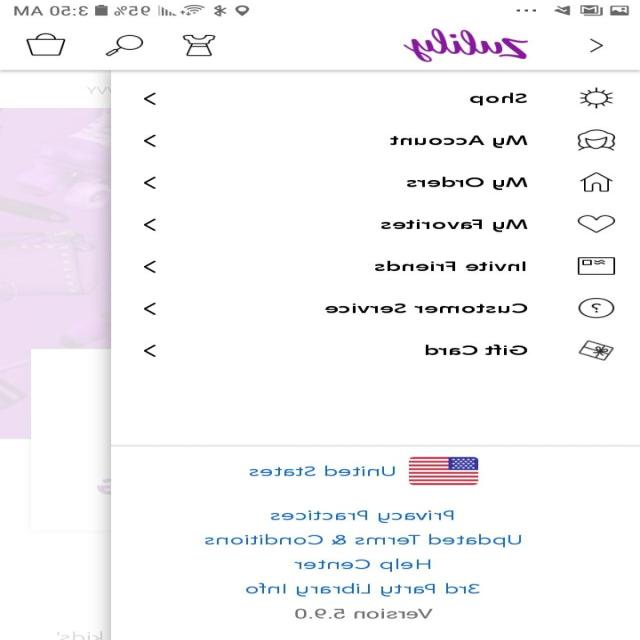Drawer: (112, 70, 640, 639)
Icon: (27, 32, 66, 56), (106, 34, 144, 56), (578, 297, 616, 318), (578, 340, 614, 361), (578, 256, 616, 275), (577, 215, 616, 233), (580, 172, 614, 192), (590, 38, 604, 52), (144, 92, 157, 105), (144, 302, 157, 315), (144, 134, 156, 147), (144, 176, 156, 189), (144, 218, 156, 231), (144, 260, 156, 273), (144, 344, 156, 357)
Image: (404, 28, 528, 62), (409, 456, 479, 485), (578, 129, 616, 151), (580, 87, 614, 109), (183, 35, 216, 56)
Text: (206, 533, 522, 547), (246, 582, 481, 597), (271, 510, 454, 523), (294, 557, 431, 572), (325, 303, 528, 313), (381, 219, 528, 232), (390, 135, 528, 148), (407, 176, 528, 190), (375, 260, 526, 271), (250, 465, 396, 476), (295, 608, 434, 618), (426, 344, 528, 355), (470, 92, 528, 105)
